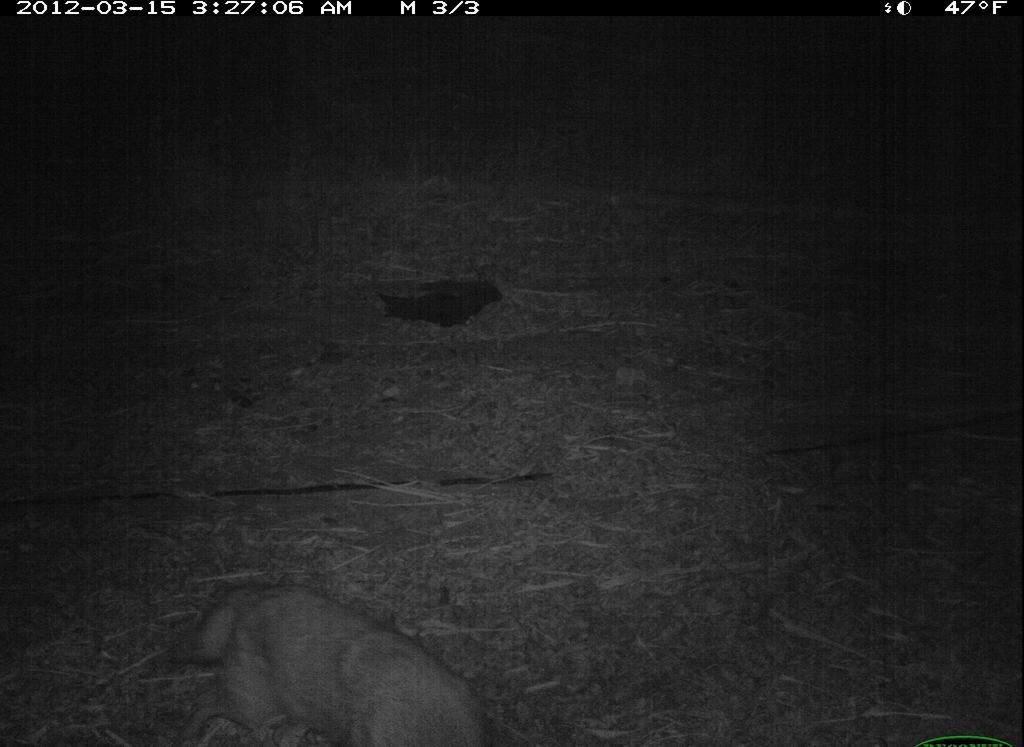coyote: (149, 550, 501, 747)
